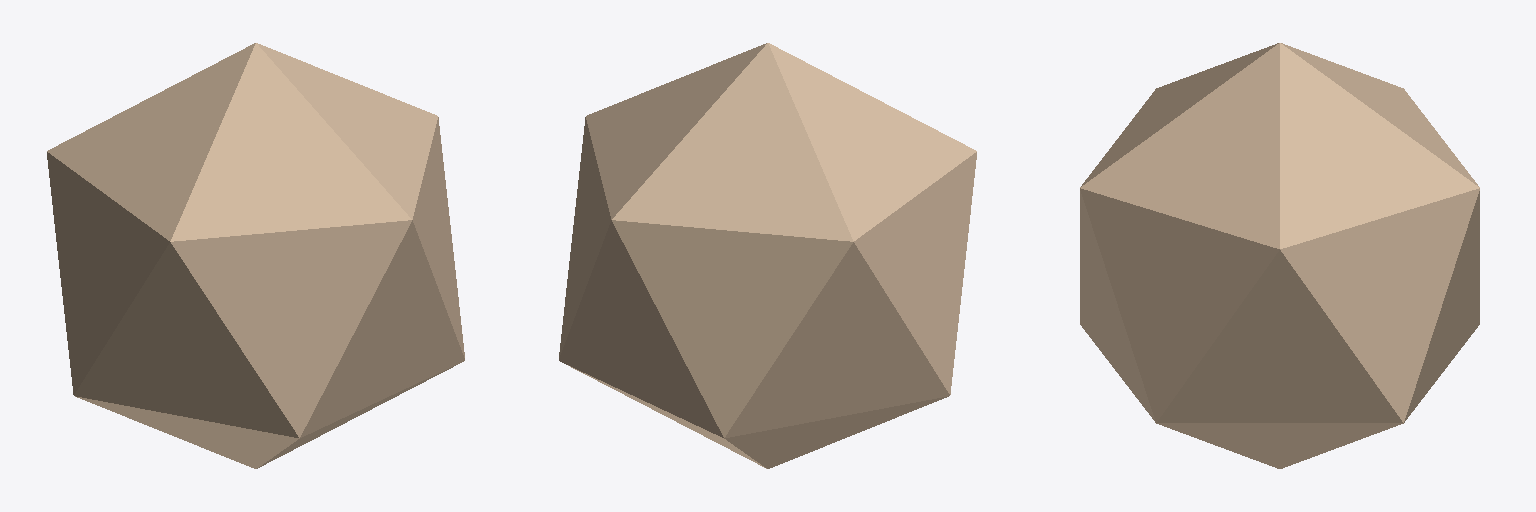
Rendered from DefaultParticle.obj.
The picture shows the model from 3 angles: view 1: azimuth 30°, elevation 25°; view 2: azimuth 150°, elevation 25°; view 3: azimuth 270°, elevation 25°; orthographic projection.
Visible parts, largest first — view 1: icosahedron1; view 2: icosahedron1; view 3: icosahedron1.
Boxes of the visible parts, x1=… form: icosahedron1: x1=47, y1=43, x2=464, y2=468; icosahedron1: x1=559, y1=43, x2=976, y2=468; icosahedron1: x1=1080, y1=43, x2=1479, y2=468.
Size of the model in its own units: 3.4 by 3.8 by 3.24.